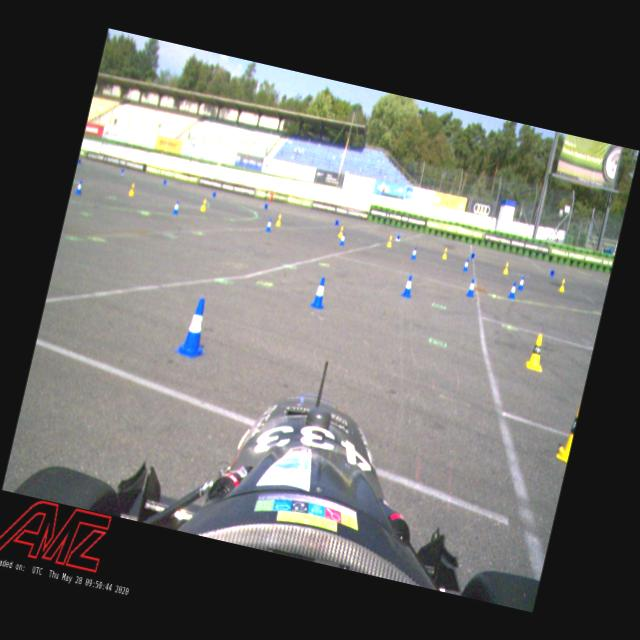blue_cone: (173, 295, 216, 361), (310, 275, 330, 309), (400, 273, 416, 298), (465, 277, 478, 298), (507, 280, 518, 300), (170, 198, 181, 216), (74, 178, 84, 196), (516, 275, 526, 291), (264, 218, 273, 232), (462, 258, 470, 272), (338, 232, 346, 246), (410, 247, 418, 260), (548, 268, 555, 278), (118, 167, 125, 175), (262, 203, 269, 211), (211, 190, 217, 198), (394, 234, 400, 242), (469, 251, 475, 259), (334, 219, 339, 226), (162, 178, 166, 186), (76, 158, 80, 165)
yellow_cone: (524, 332, 550, 372), (557, 277, 567, 293), (126, 182, 136, 196), (198, 198, 208, 212), (274, 212, 283, 226), (502, 261, 511, 275), (441, 247, 449, 260), (386, 235, 394, 248), (337, 226, 345, 238)
